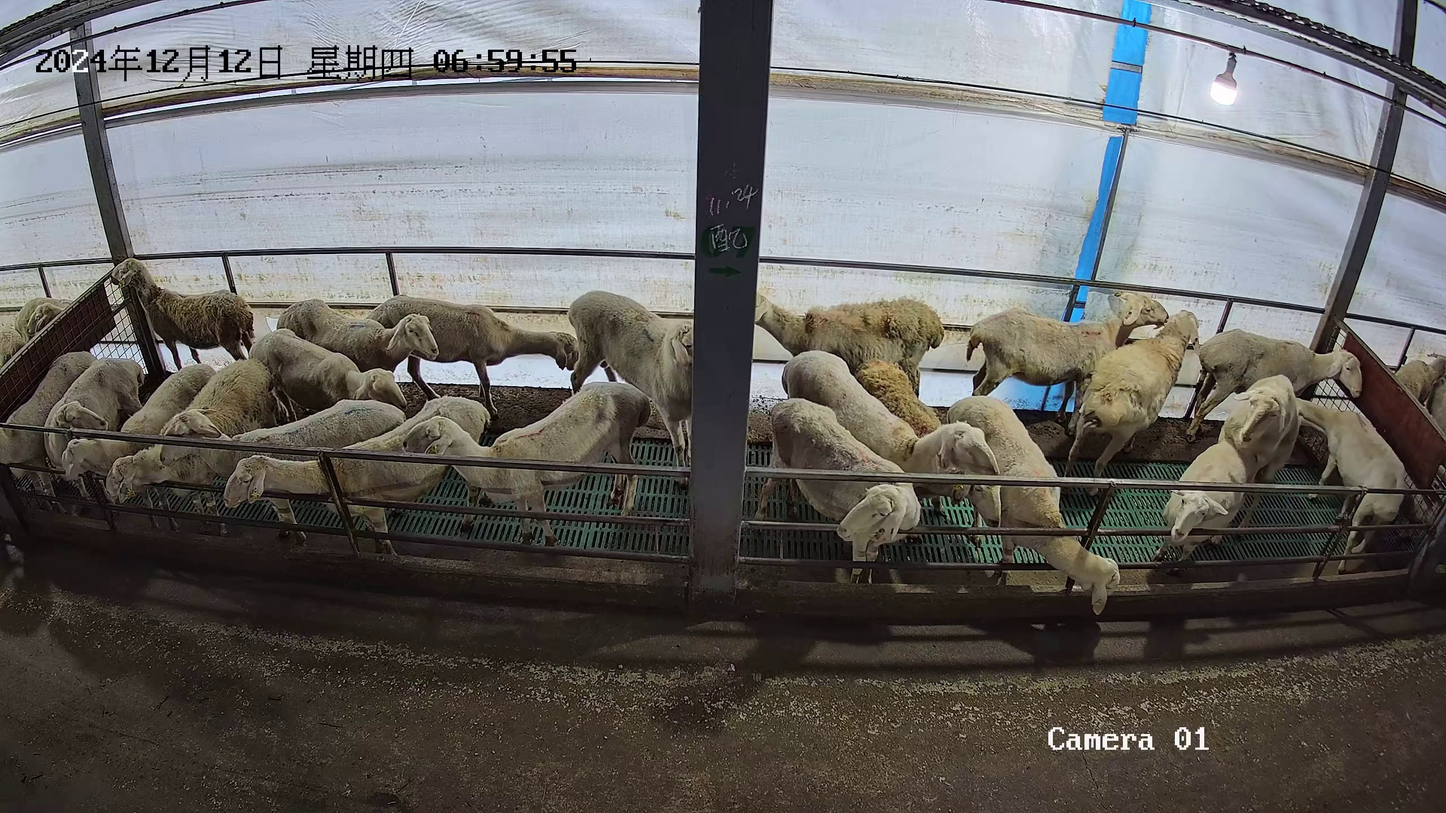Smounting: (1146, 372, 1304, 575)
mounted: (1151, 438, 1264, 572)
